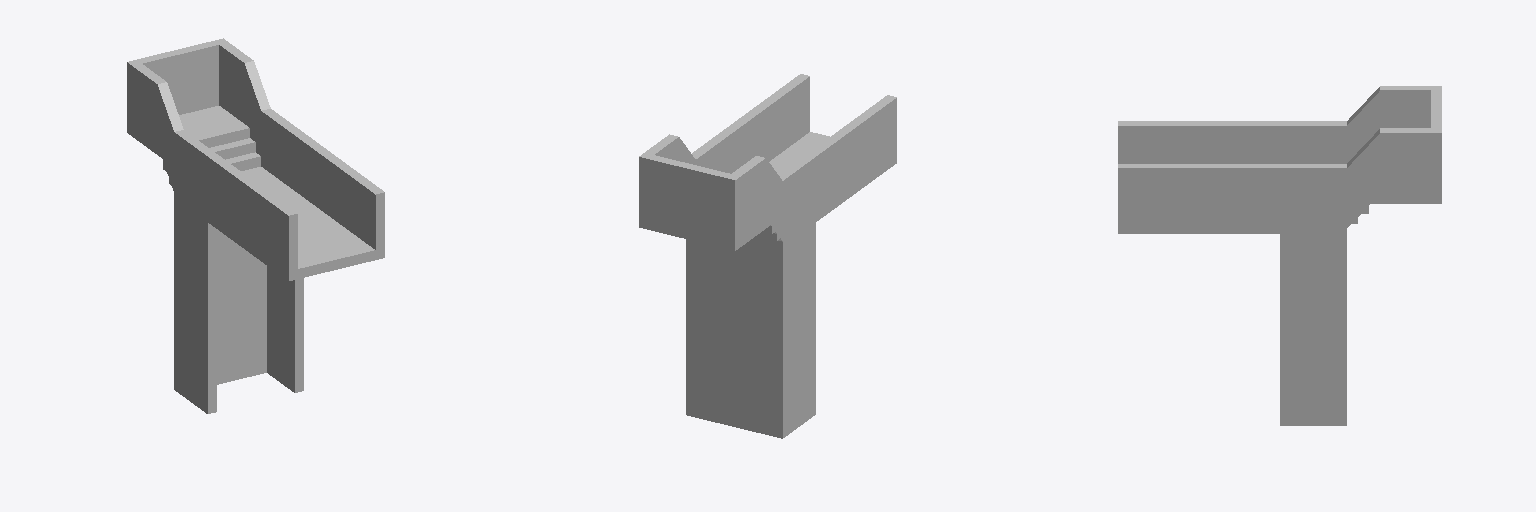
The model's file is stage.obj.
3 renders of one model, left to right at view 1: azimuth 30°, elevation 25°; view 2: azimuth 150°, elevation 25°; view 3: azimuth 270°, elevation 25°, orthographic.
Parts seen in each view (by area): view 1: 立方体.001_立方体.016; view 2: 立方体.001_立方体.016; view 3: 立方体.001_立方体.016.
Boxes of the visible parts, x1=… form: 立方体.001_立方体.016: x1=127, y1=38, x2=384, y2=413; 立方体.001_立方体.016: x1=639, y1=74, x2=896, y2=438; 立方体.001_立方体.016: x1=1118, y1=86, x2=1441, y2=425.
Size of the model in its own units: 10 by 29 by 29.